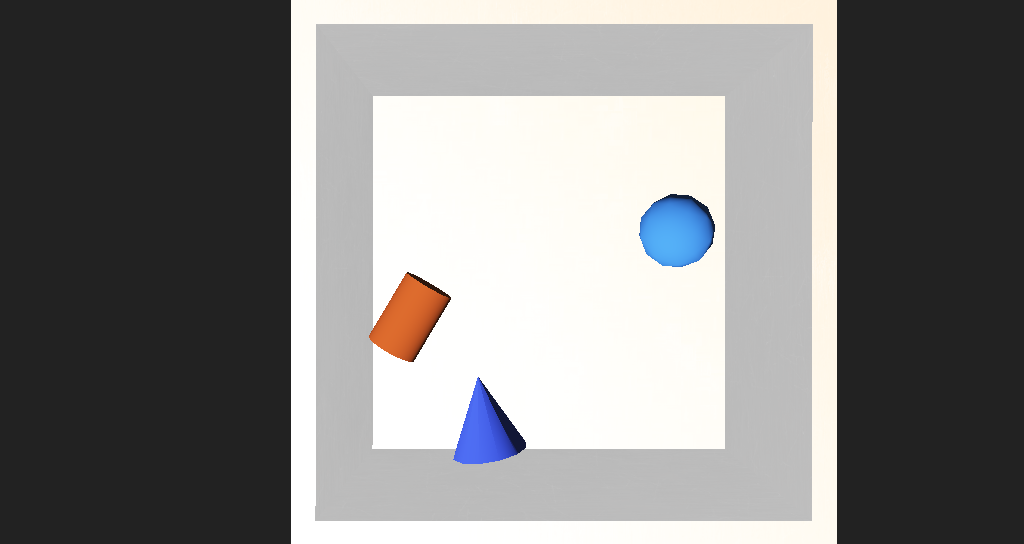cone: (344, 267, 424, 324)
cylinder: (408, 327, 495, 389)
sphere: (583, 220, 643, 267)
